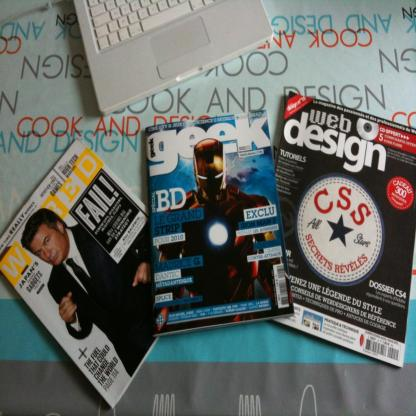board: (73, 0, 274, 119)
